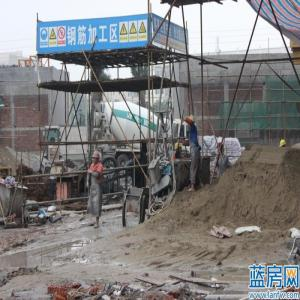red: (93, 151, 101, 165)
yellow: (176, 141, 184, 156), (189, 115, 196, 129), (280, 140, 287, 150)
